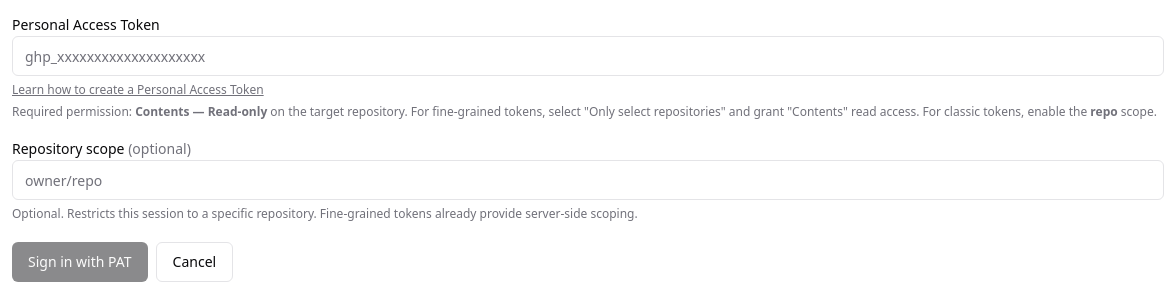
PatLoginForm › enables submit button when PAT has non-whitespace content
This screenshot has width=1176, height=299.
Type "ghp_validtoken123" into the password field labelled "Personal Access Token" at [588, 56], box [12,36,1164,76]
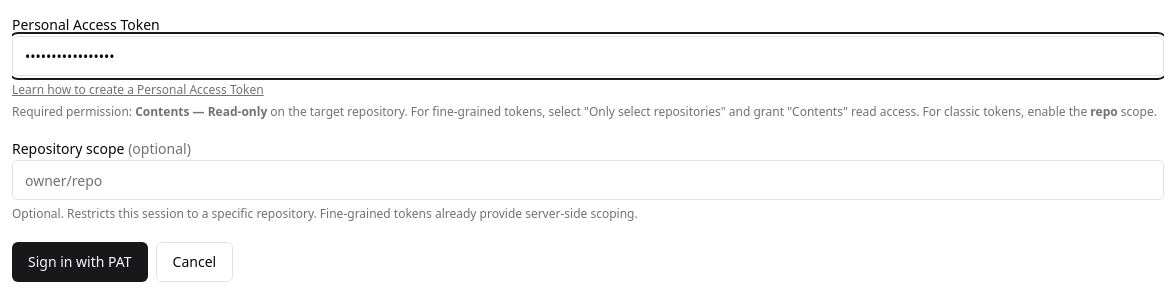
Expected: the button "Sign in with PAT" is enabled, [12,242,148,282]
